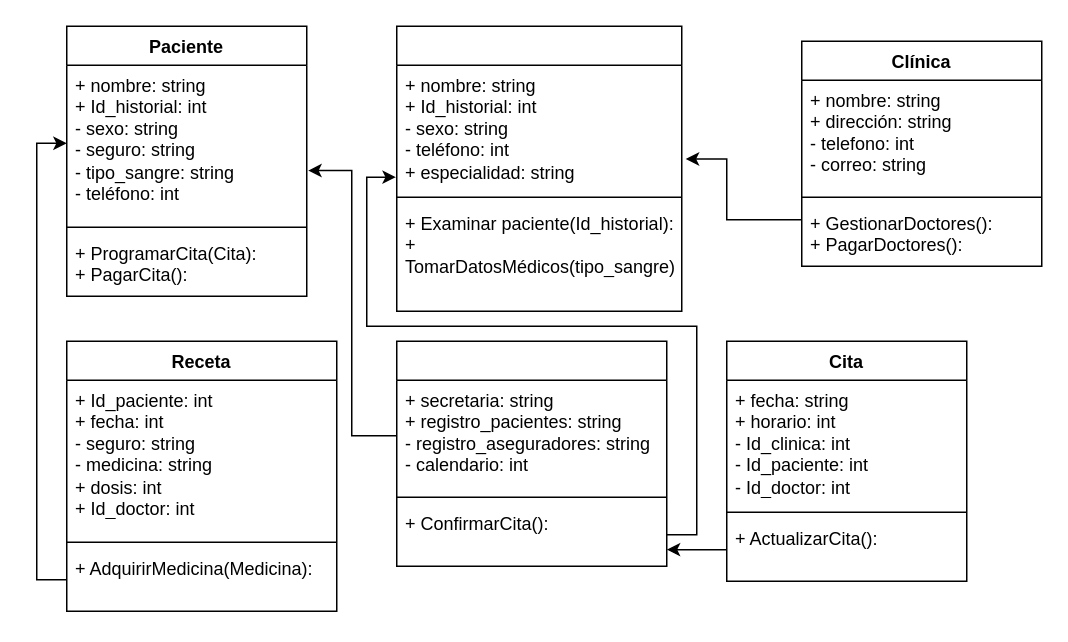
Some shapes in this 1068 by 642 pixel diagram are drawn without their labels. Here are the shapes that lost their labels. From the top down, the box of each, then its label:
(395, 25, 682, 311): Doctor
(395, 340, 667, 566): Recepción
